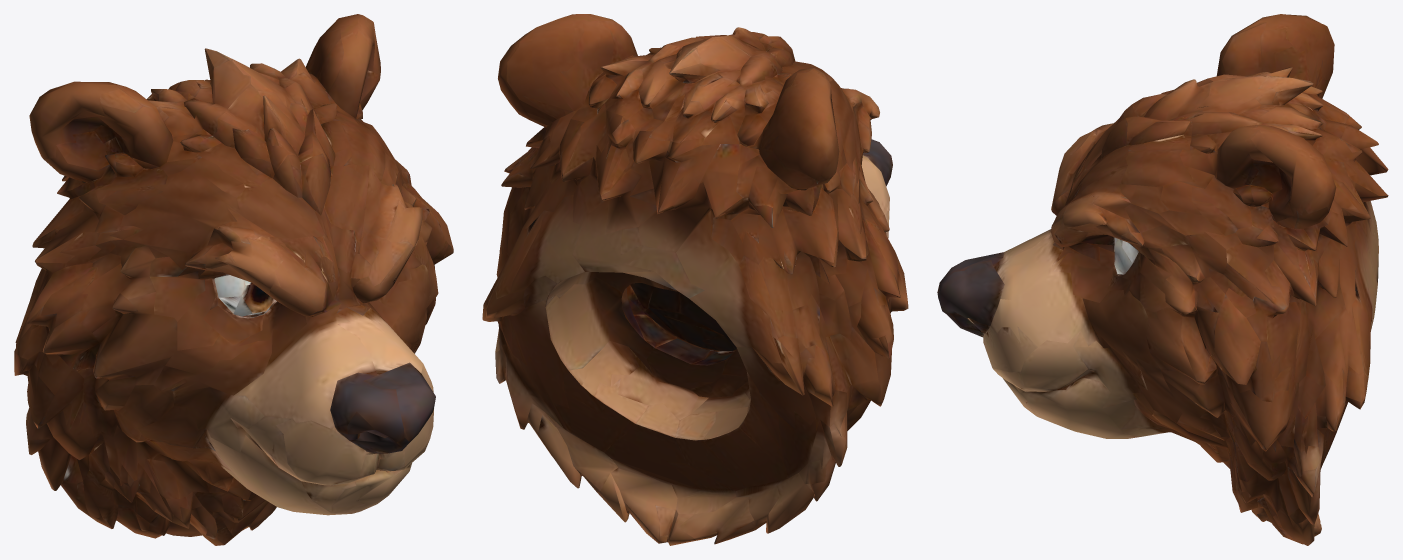
File: hdBear.glb
3 views of the same model, side by side, from view 1: azimuth 30°, elevation 25°; view 2: azimuth 150°, elevation 25°; view 3: azimuth 270°, elevation 25° (orthographic). The views are drawn at different scales.
Size of the model in its own units: 1.65 by 1.89 by 1.68.
1 material, 1 textured.
